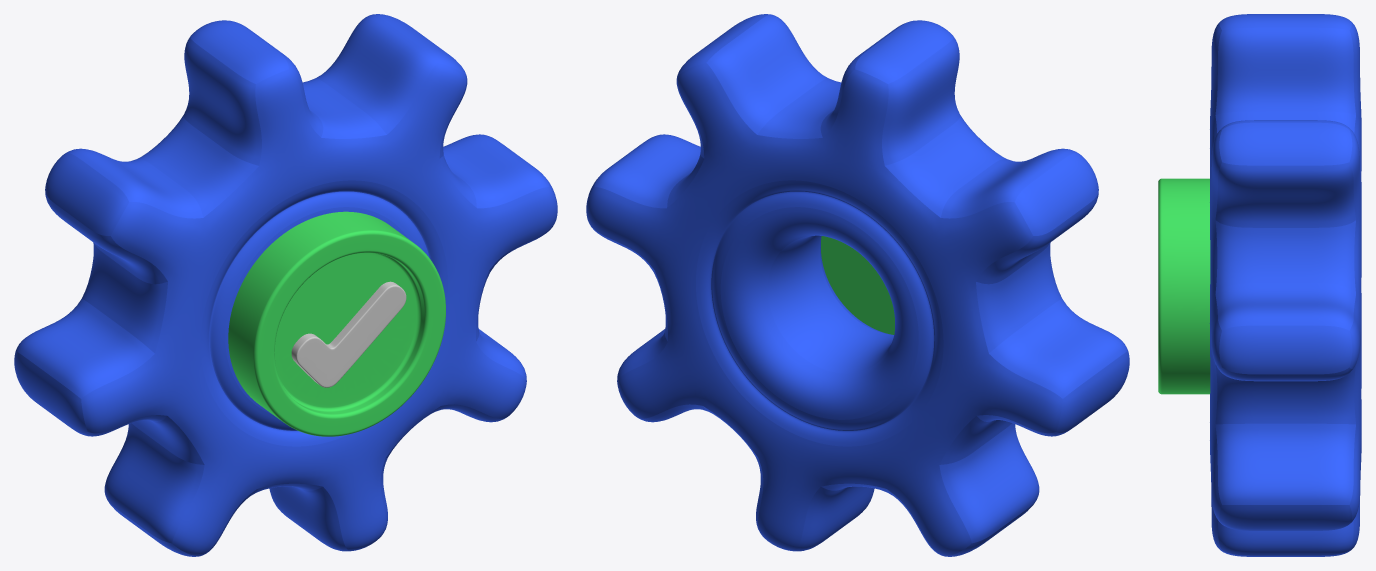
The model's file is process-completed-animated-3d-icon-196369876843.glb.
3 views of the same model, side by side, from view 1: azimuth 30°, elevation 25°; view 2: azimuth 150°, elevation 25°; view 3: azimuth 270°, elevation 25° (orthographic). The views are drawn at different scales.
Visible parts, largest first — view 1: Circle.002, Base.007, Checkmark.007; view 2: Circle.002, Base.007; view 3: Circle.002, Base.007.
Boxes of the visible parts, x1=… form: Circle.002: x1=14, y1=14, x2=557, y2=556; Base.007: x1=228, y1=211, x2=445, y2=436; Checkmark.007: x1=291, y1=281, x2=406, y2=387; Circle.002: x1=586, y1=14, x2=1129, y2=556; Base.007: x1=821, y1=236, x2=894, y2=334; Circle.002: x1=1209, y1=14, x2=1361, y2=556; Base.007: x1=1158, y1=178, x2=1210, y2=394.
Bounding box in the file's own units: 2.84 × 2.84 × 1.06.
